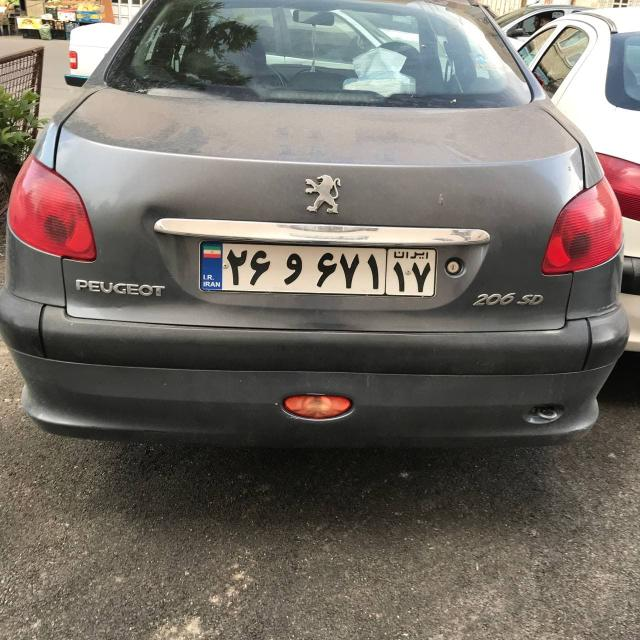Plates: (198, 240, 436, 299)
